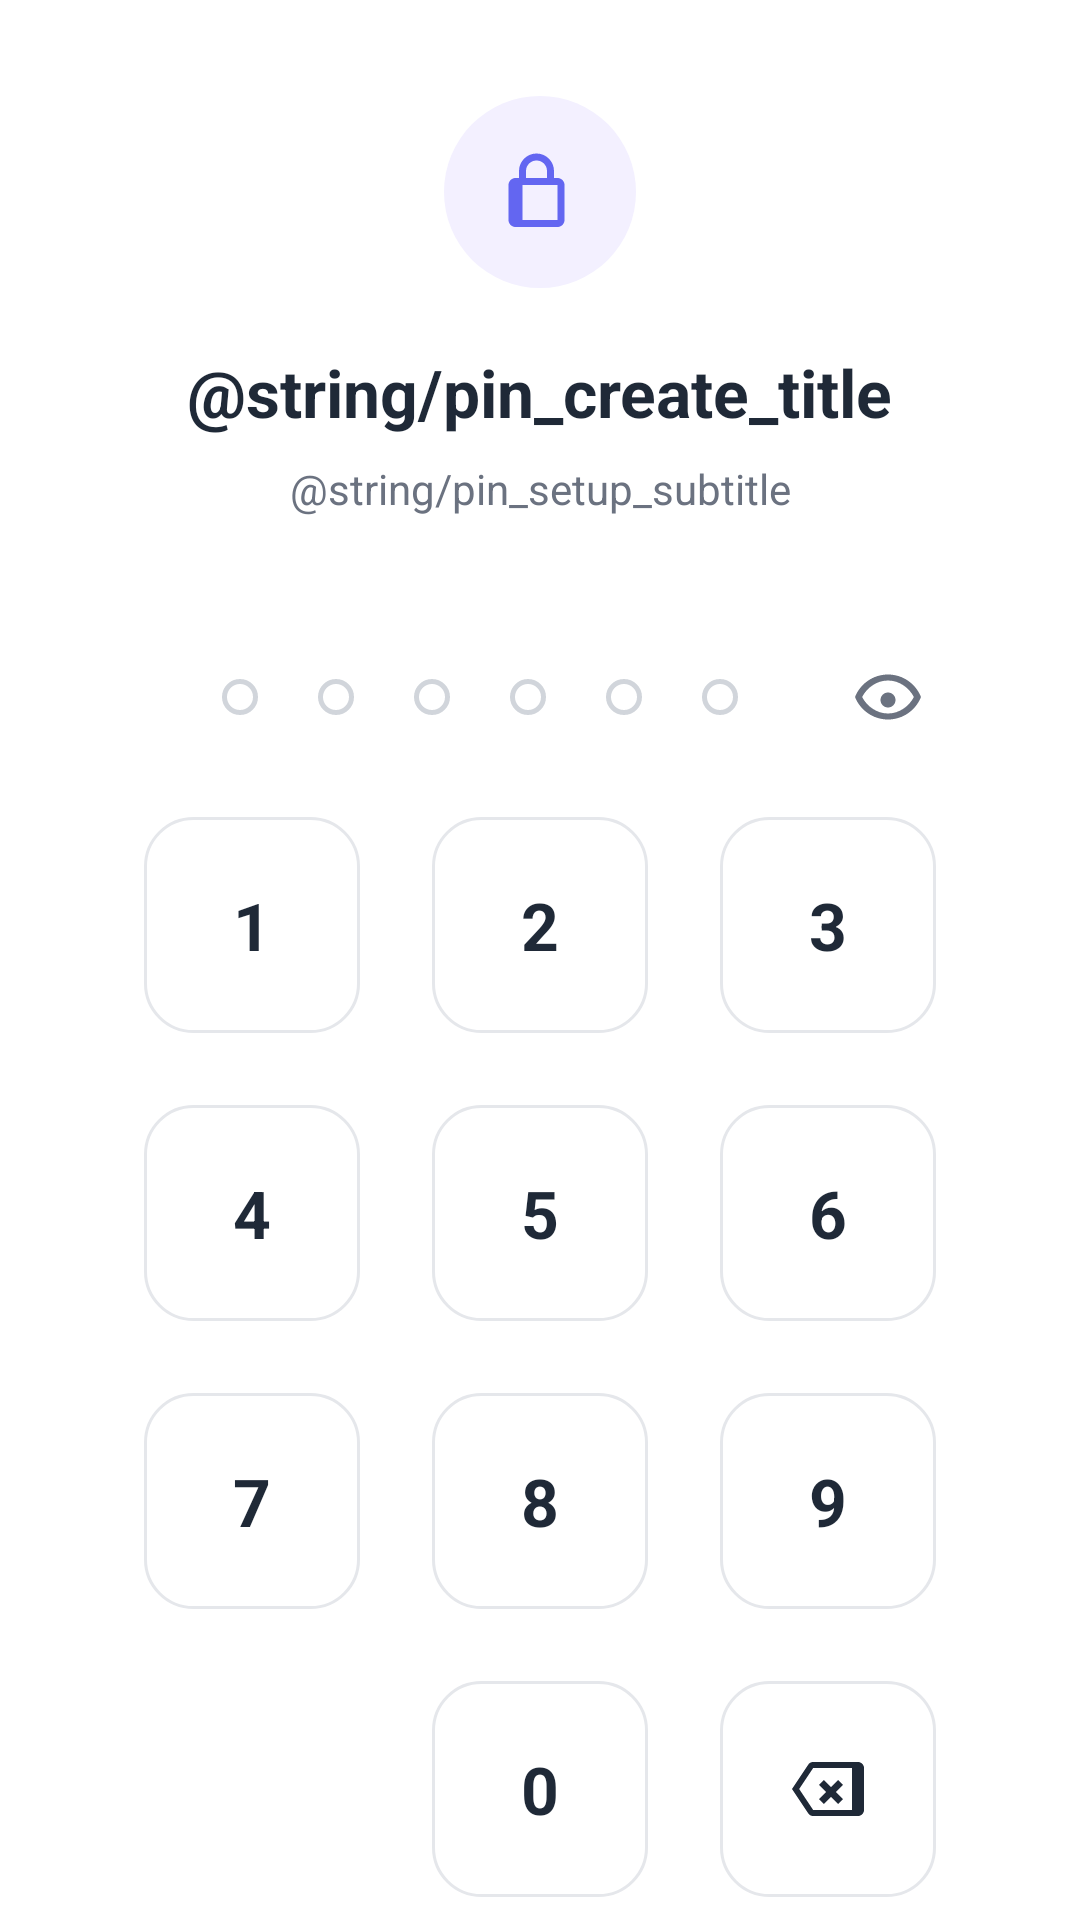

Where icons sit on this 1080×1920 app screen, as (x1, y1, x2, y2):
delete: (792, 1762, 864, 1816)
eye: (855, 674, 921, 720)
lock: (508, 153, 565, 227)
pin dot empty: (222, 679, 258, 715), (318, 679, 354, 715), (414, 679, 450, 715), (510, 679, 546, 715), (606, 679, 642, 715), (702, 679, 738, 715)
